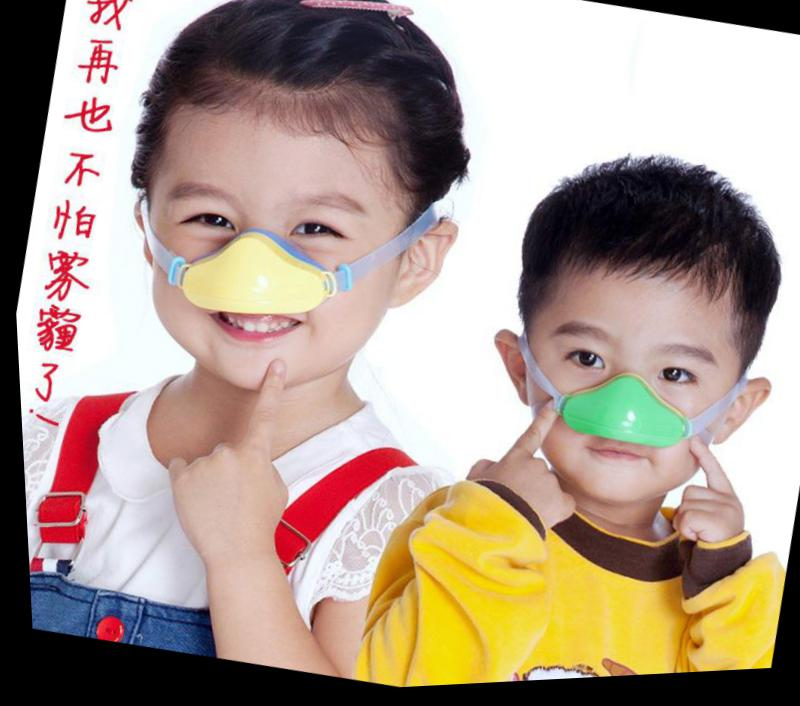WRONG: (124, 157, 380, 413), (507, 309, 727, 528)
